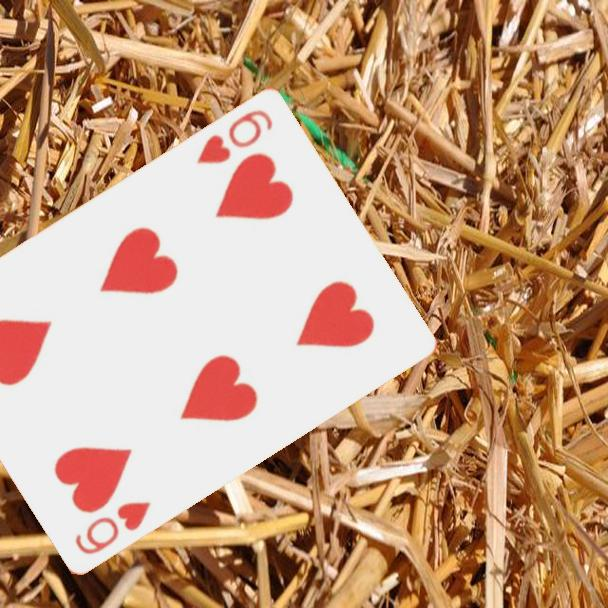h06: (193, 105, 276, 167), (71, 497, 155, 557)
